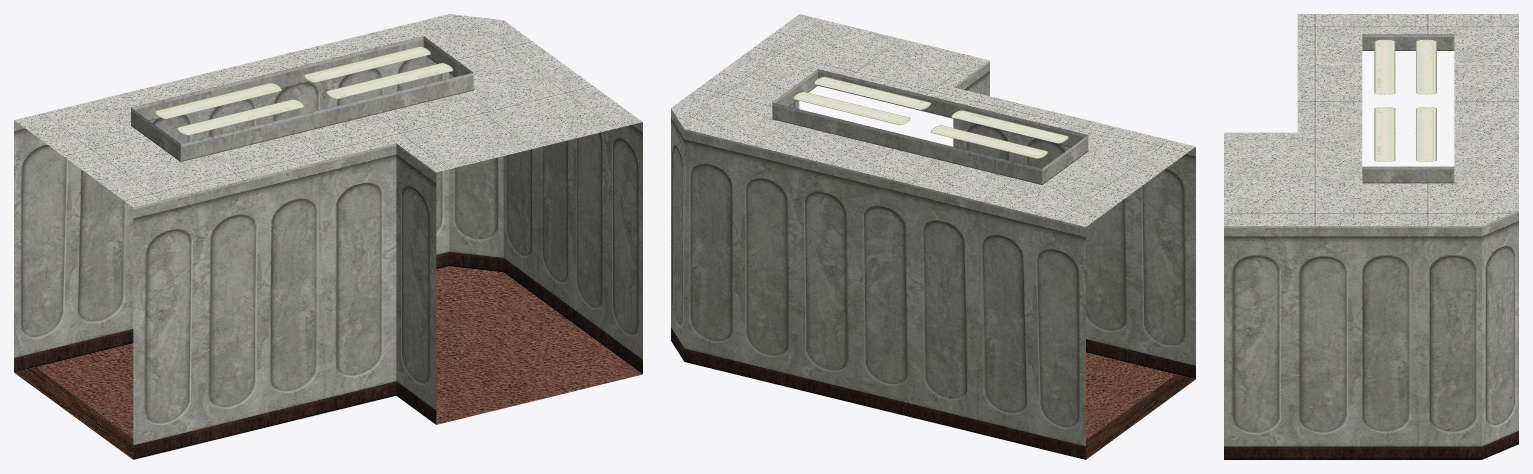
File: mun_tato_guild_university_s01_r2_halla_mesh_halla.fbx
3 views of the same model, side by side, from view 1: azimuth 30°, elevation 25°; view 2: azimuth 150°, elevation 25°; view 3: azimuth 270°, elevation 25° (orthographic). The views are drawn at different scales.
Parts seen in each view (by area): view 1: mesh_node; view 2: mesh_node; view 3: mesh_node.
Boxes of the visible parts, bbox=[...] form: mesh_node: bbox=[14, 14, 642, 459]; mesh_node: bbox=[671, 14, 1195, 459]; mesh_node: bbox=[1224, 14, 1518, 459].
Size of the model in its own units: 6.82 by 3.75 by 4.
